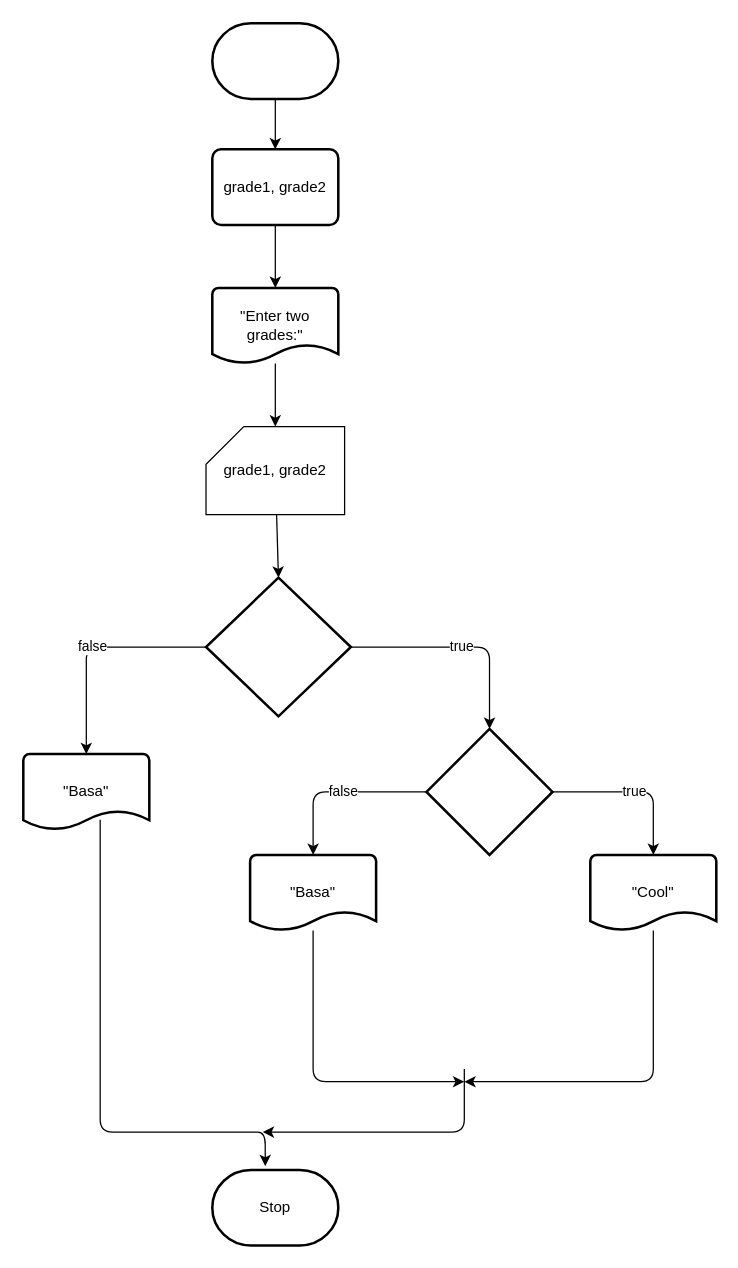
The diagram is 738 pixels wide and 1268 high, and some of its shapes have lost their labels. Each missing label, with the box of its shape:
grade1 >= 60: (204, 576, 352, 717)
grade2 >= 60: (425, 727, 553, 856)
Start: (210, 21, 339, 100)
